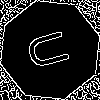U: (25, 25, 80, 72)
